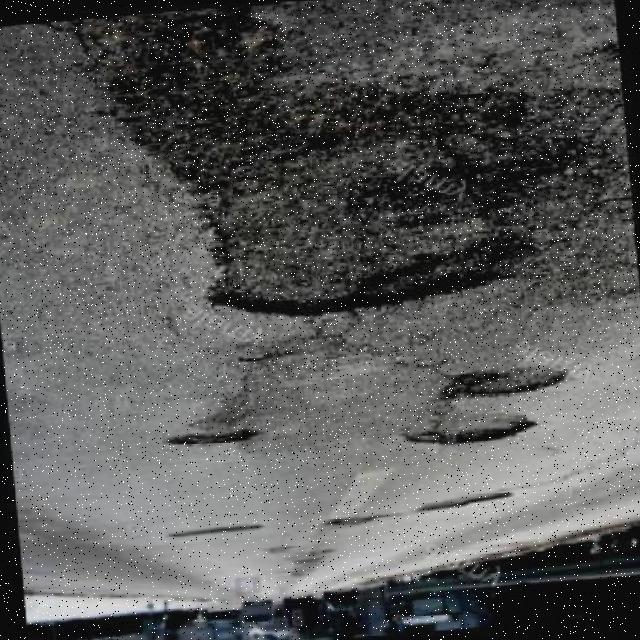Pothole: (78, 2, 627, 314), (438, 366, 568, 399), (399, 413, 536, 444), (164, 426, 262, 446)
